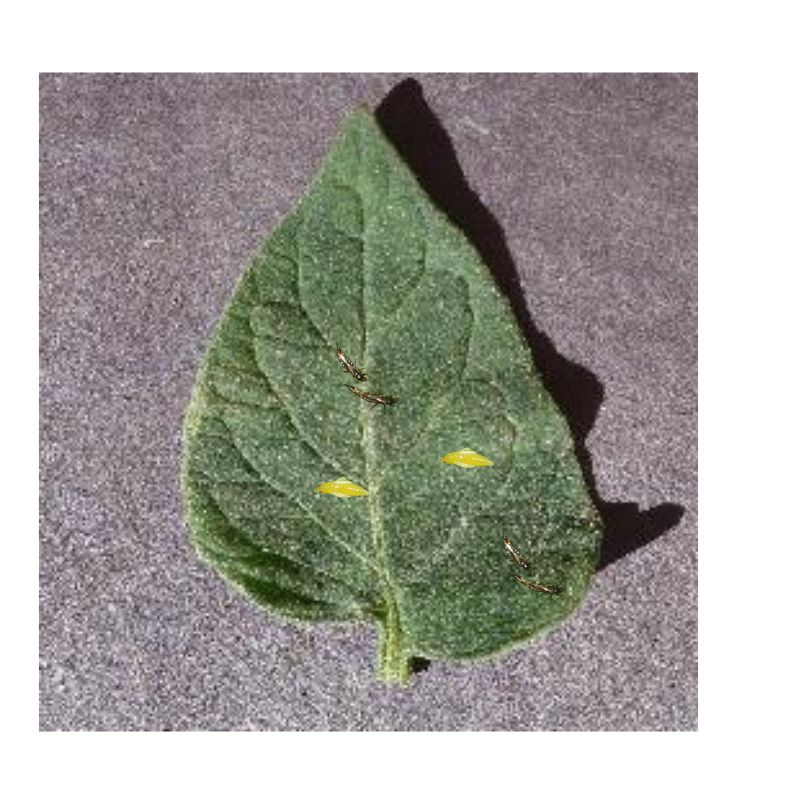thrips: (314, 475, 369, 502), (500, 533, 534, 572), (514, 572, 565, 598), (344, 384, 397, 409), (335, 342, 367, 381), (443, 447, 493, 471)
